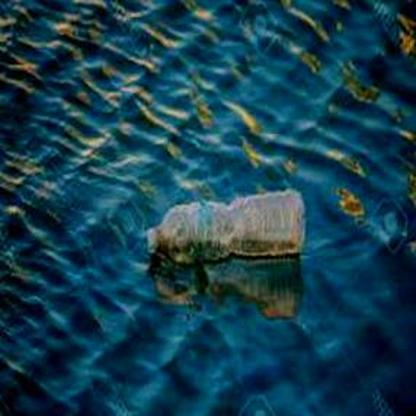plastic bottle: (146, 189, 306, 257)
